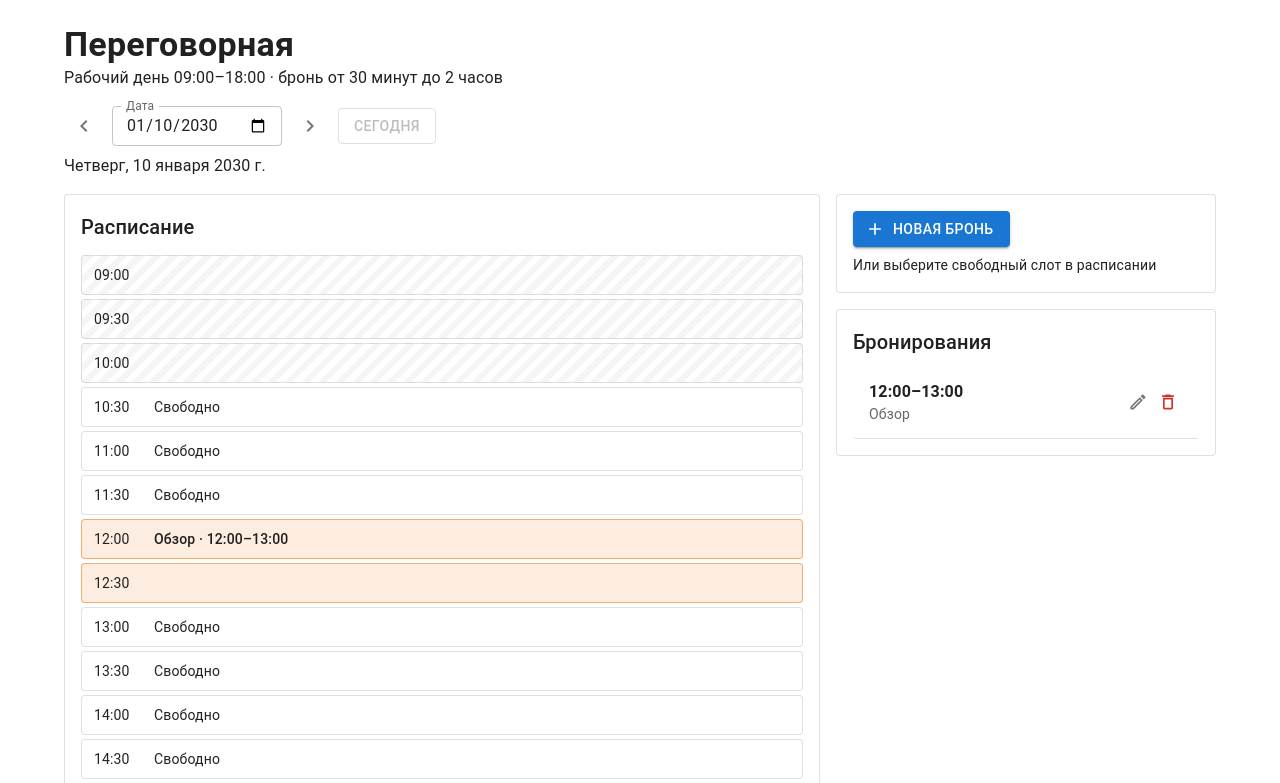
it: конфликт со стороны сервера › 404: бронь удалили, пока её редактировали — можно сохранить как новую
Expected: the button "10:30 Свободно" is shown, [81,387,803,427]
Click the button named "Изменить". click: (1138, 402)
box: [1123,386,1153,416]
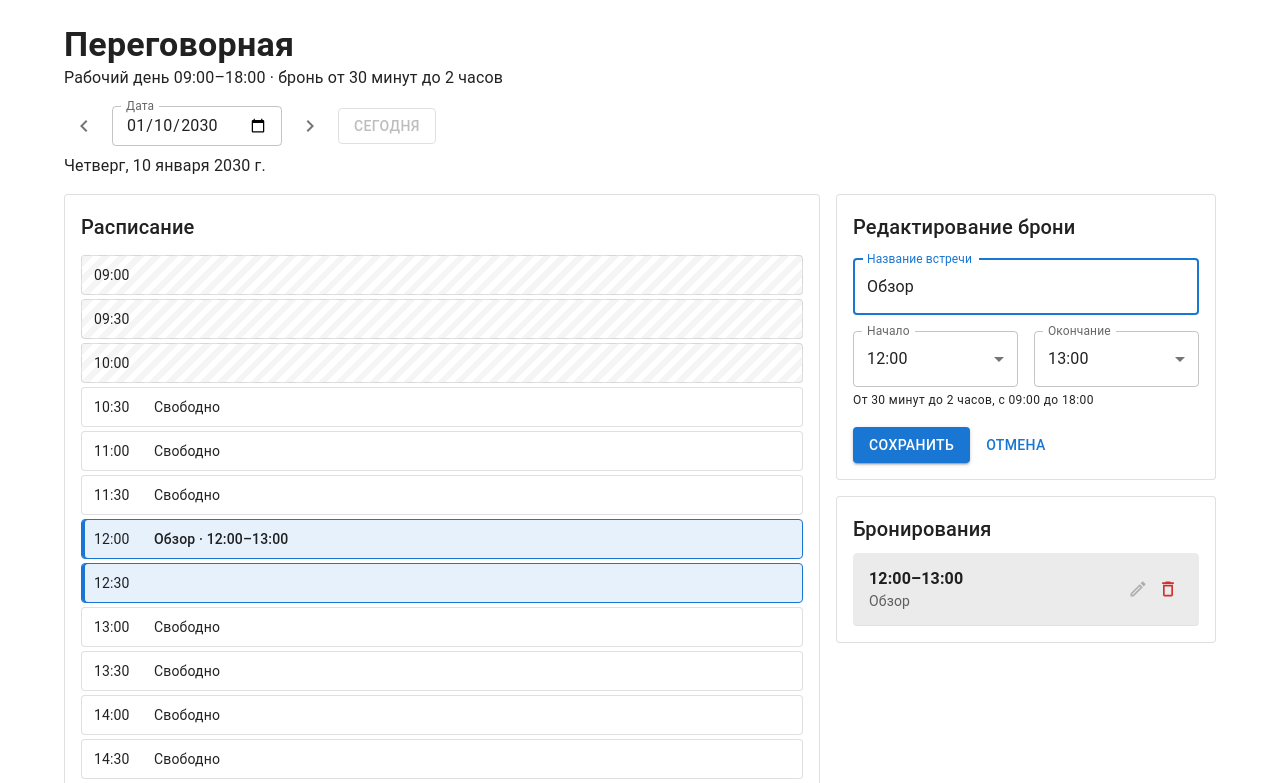
Type " спринта" into the field labelled "Название встречи". click: (1026, 287)
box: [853,259,1199,315]
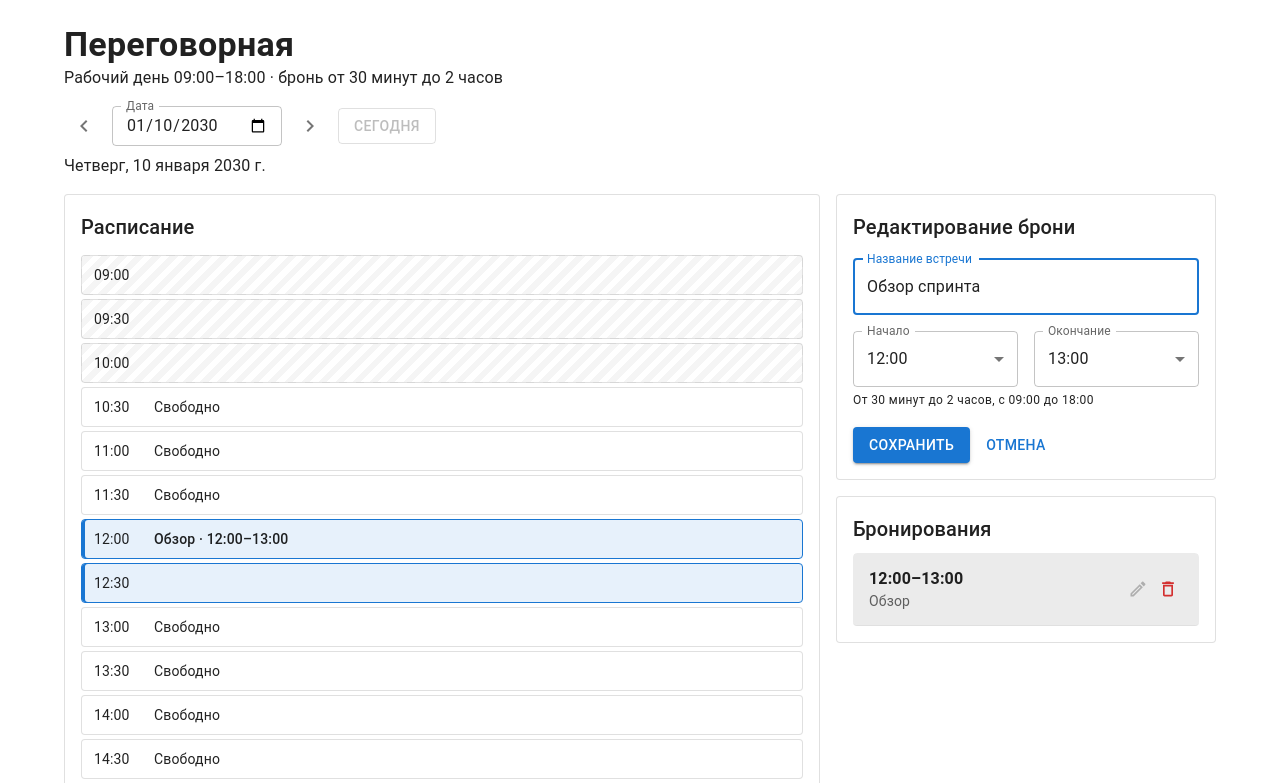
Click the button "Сохранить". click: (912, 445)
box: [853,427,970,463]
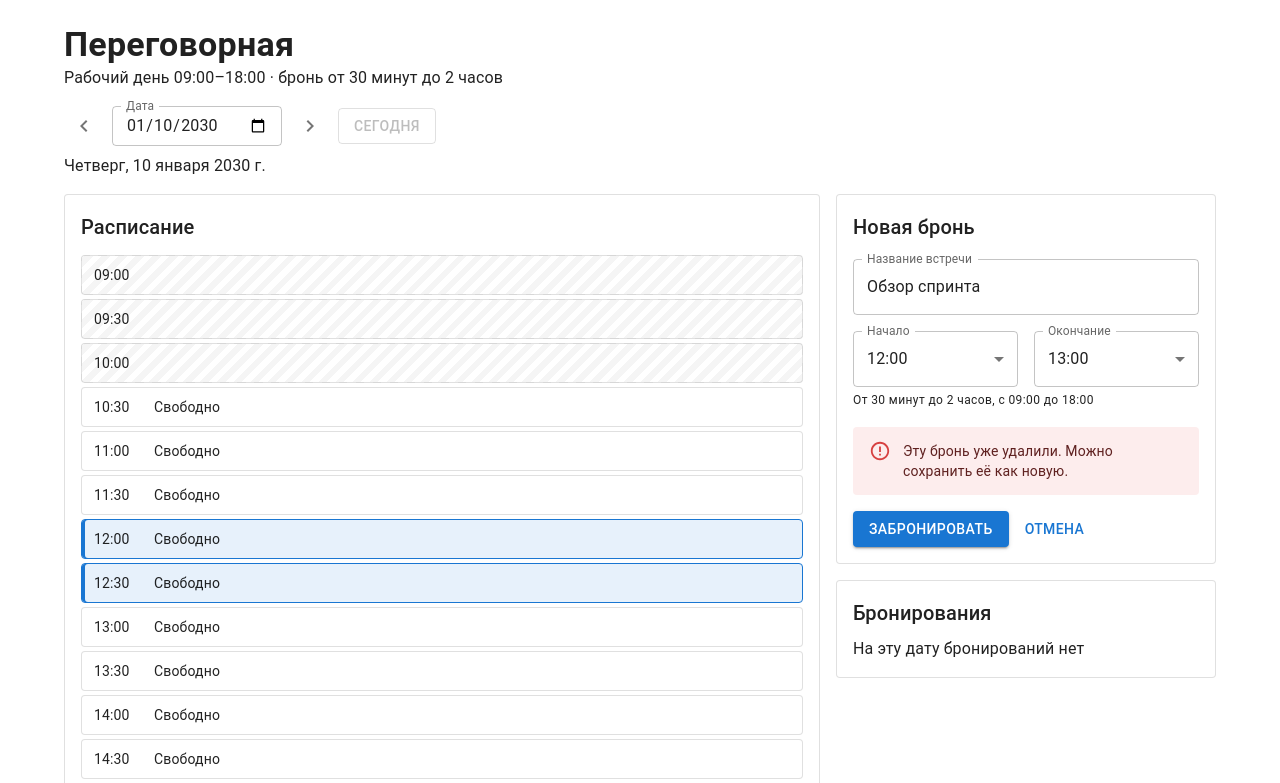
Expected: the field labelled "Название встречи" holds "Обзор спринта", [853,259,1199,315]
Expected: the text "Эту бронь уже удалили. Можно сохранить её как новую." is shown, [903,443,1113,479]
Expected: the heading "Новая бронь" is shown, [853,215,975,239]
Click the button "Забронировать". click: (931, 529)
box: [853,511,1009,547]
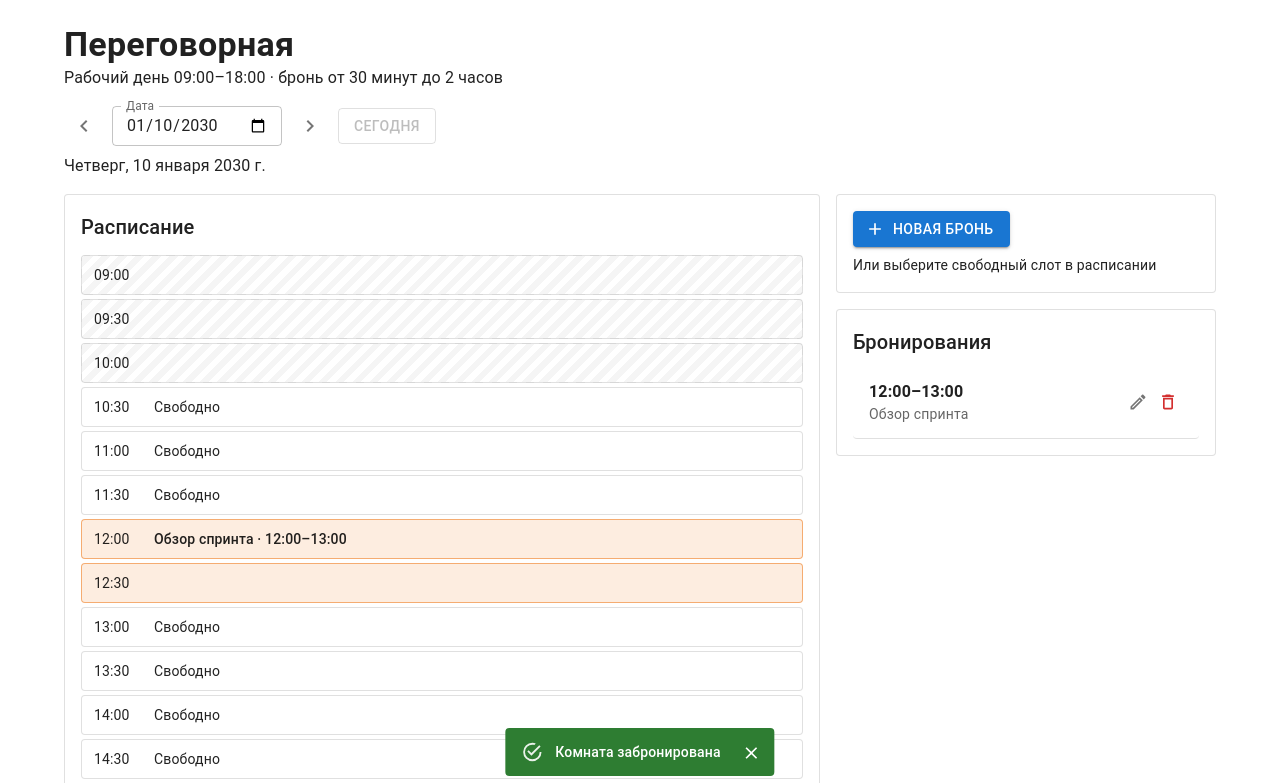
Expected: the text "Комната забронирована" is shown, [555,744,721,760]
